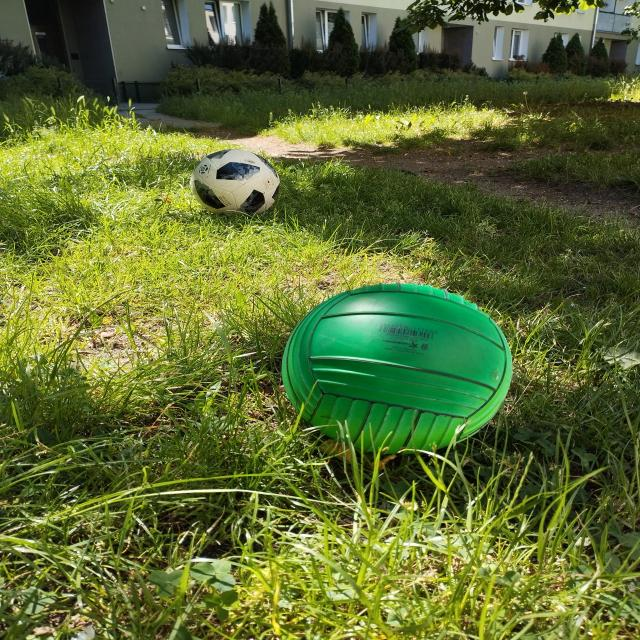nozna: (190, 149, 280, 215)
zielona: (282, 283, 513, 455)
